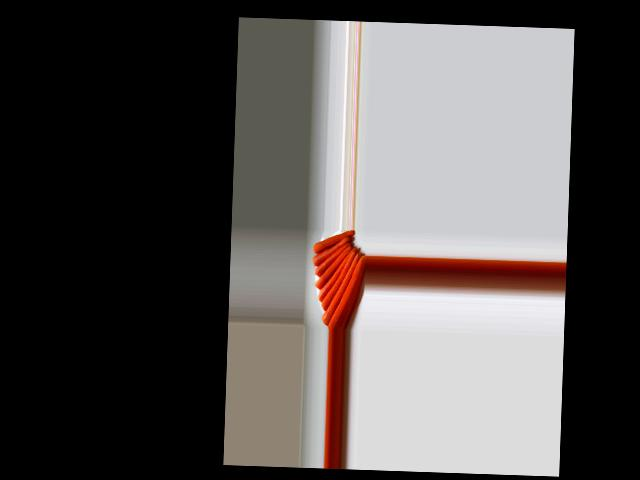carrot: (329, 255, 364, 330)
